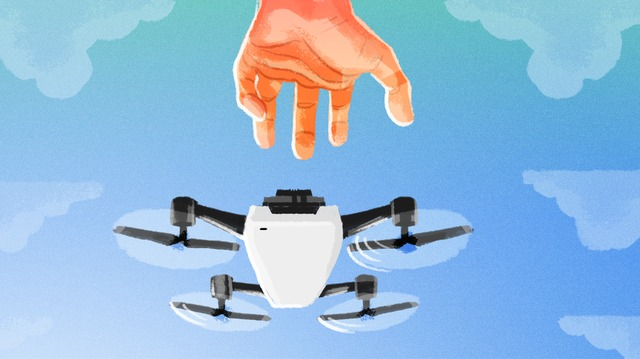drone: (113, 189, 472, 333)
